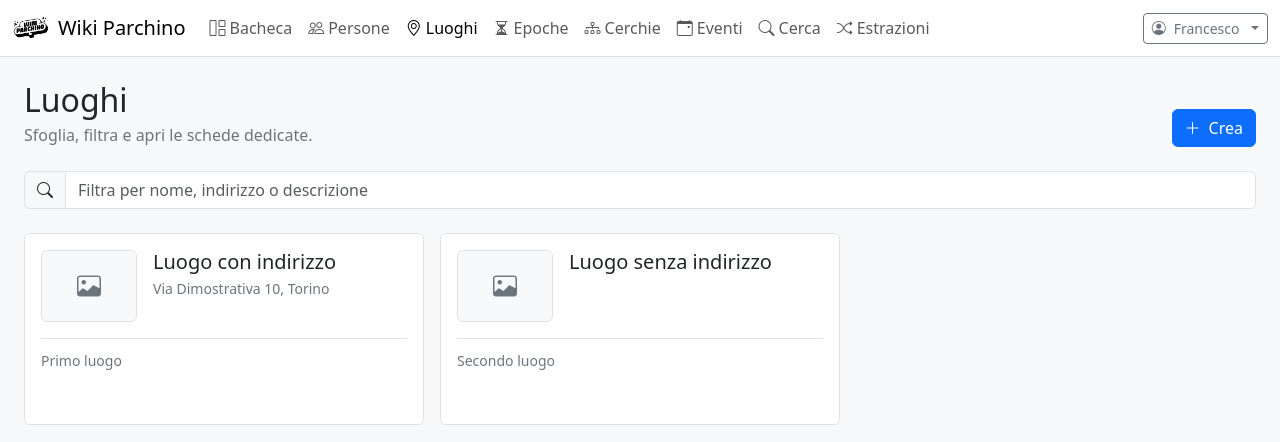
App › filters places by address and omits the subtitle when an address is absent
Type "torino" into the field with placeholder "Filtra per nome, indirizzo o descrizione".
click(660, 190); type("torino")  # box x1=65 y1=171 x2=1256 y2=209
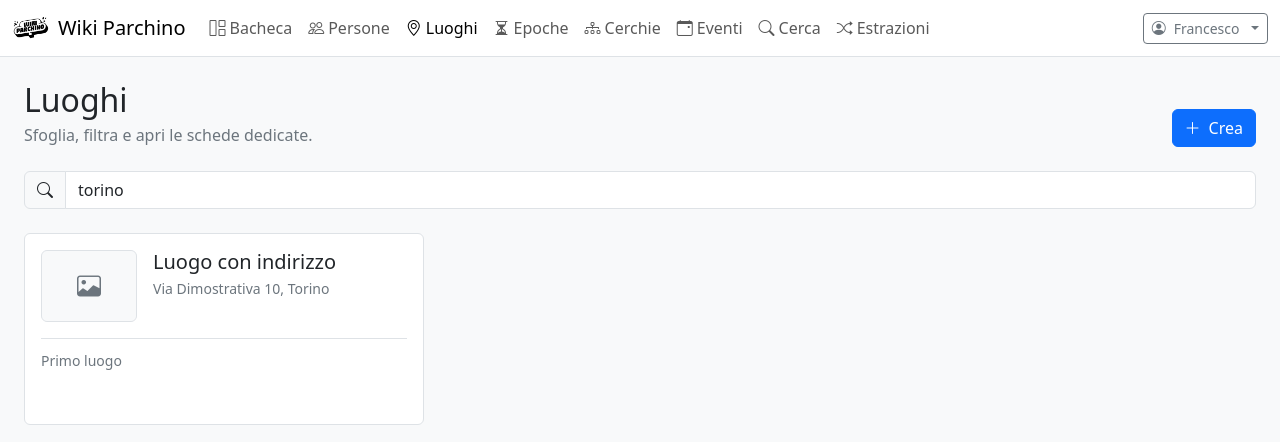
Expected: the text "Luogo con indirizzo" is shown, x1=153 y1=250 x2=336 y2=275
Now the link "Luogo senza indirizzo" is gone
